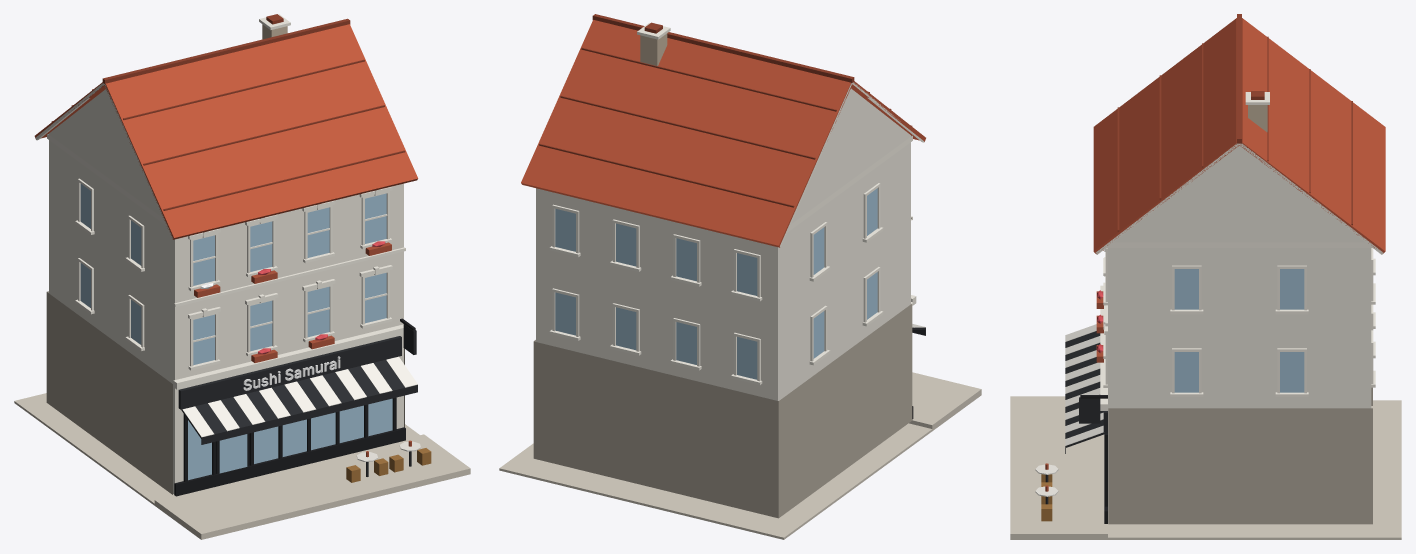
The model's file is Dukkan_sushi_samurai_Hafif.fbx.
3 views of the same model, side by side, from view 1: azimuth 30°, elevation 25°; view 2: azimuth 150°, elevation 25°; view 3: azimuth 270°, elevation 25° (orthographic). The views are drawn at different scales.
Visible parts, largest first — view 1: Dukkan_sushi_samurai_Hafif; view 2: Dukkan_sushi_samurai_Hafif; view 3: Dukkan_sushi_samurai_Hafif.
Part boxes in pixels (x1,y1,x2,y2): Dukkan_sushi_samurai_Hafif: [14, 14, 470, 539]; Dukkan_sushi_samurai_Hafif: [499, 14, 981, 539]; Dukkan_sushi_samurai_Hafif: [1010, 14, 1401, 539].
Size of the model in its own units: 10.67 by 14.72 by 12.84.
